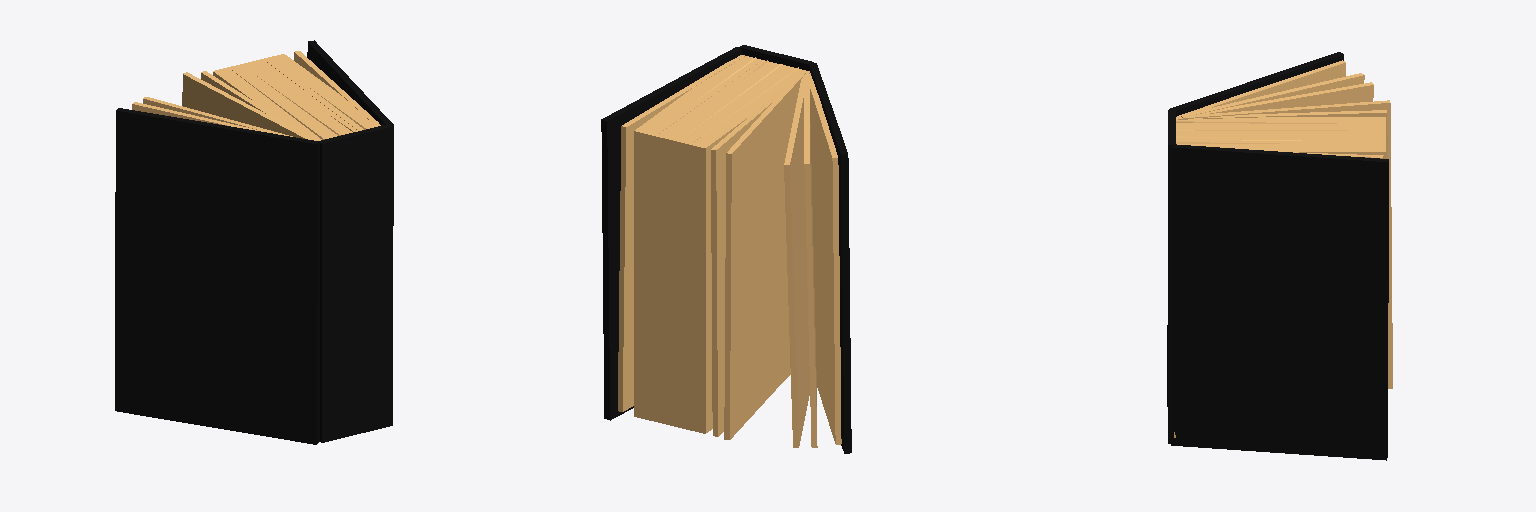
3 renders of one model, left to right at view 1: azimuth 30°, elevation 25°; view 2: azimuth 150°, elevation 25°; view 3: azimuth 270°, elevation 25°, orthographic.
Visible parts, largest first — view 1: group[number redacted], group[number redacted], group[number redacted], group[number redacted], group[number redacted], group[number redacted], group[number redacted], group[number redacted], group[number redacted]; view 2: group[number redacted], group[number redacted], group[number redacted], group[number redacted], group[number redacted], group[number redacted], group[number redacted], group[number redacted], group[number redacted], group[number redacted]; view 3: group[number redacted], group[number redacted], group[number redacted], group[number redacted], group[number redacted], group[number redacted], group[number redacted], group[number redacted], group[number redacted].
Boxes of the visible parts, x1=… form: group[number redacted]: x1=115, y1=108, x2=319, y2=444; group[number redacted]: x1=318, y1=124, x2=392, y2=442; group[number redacted]: x1=213, y1=54, x2=375, y2=140; group[number redacted]: x1=182, y1=72, x2=316, y2=140; group[number redacted]: x1=307, y1=40, x2=393, y2=225; group[number redacted]: x1=294, y1=51, x2=380, y2=126; group[number redacted]: x1=143, y1=97, x2=292, y2=136; group[number redacted]: x1=132, y1=102, x2=273, y2=133; group[number redacted]: x1=201, y1=71, x2=307, y2=135; group[number redacted]: x1=634, y1=56, x2=809, y2=433; group[number redacted]: x1=724, y1=72, x2=805, y2=439; group[number redacted]: x1=809, y1=72, x2=841, y2=444; group[number redacted]: x1=601, y1=47, x2=741, y2=420; group[number redacted]: x1=784, y1=76, x2=809, y2=447; group[number redacted]: x1=618, y1=55, x2=744, y2=411; group[number redacted]: x1=711, y1=70, x2=808, y2=436; group[number redacted]: x1=810, y1=63, x2=851, y2=453; group[number redacted]: x1=804, y1=72, x2=817, y2=447; group[number redacted]: x1=739, y1=45, x2=813, y2=70; group[number redacted]: x1=1171, y1=144, x2=1388, y2=460; group[number redacted]: x1=1176, y1=117, x2=1385, y2=158; group[number redacted]: x1=1182, y1=100, x2=1392, y2=388; group[number redacted]: x1=1197, y1=82, x2=1373, y2=114; group[number redacted]: x1=1167, y1=52, x2=1343, y2=406; group[number redacted]: x1=1168, y1=110, x2=1175, y2=443; group[number redacted]: x1=1177, y1=60, x2=1345, y2=116; group[number redacted]: x1=1180, y1=73, x2=1364, y2=117; group[number redacted]: x1=1177, y1=110, x2=1387, y2=158.
Bounding box in the file's own units: 0.3464 × 0.443 × 0.3013.